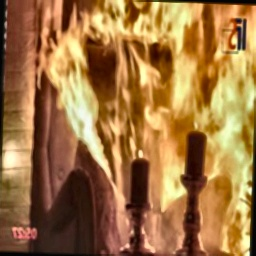fire: (21, 0, 256, 256)
